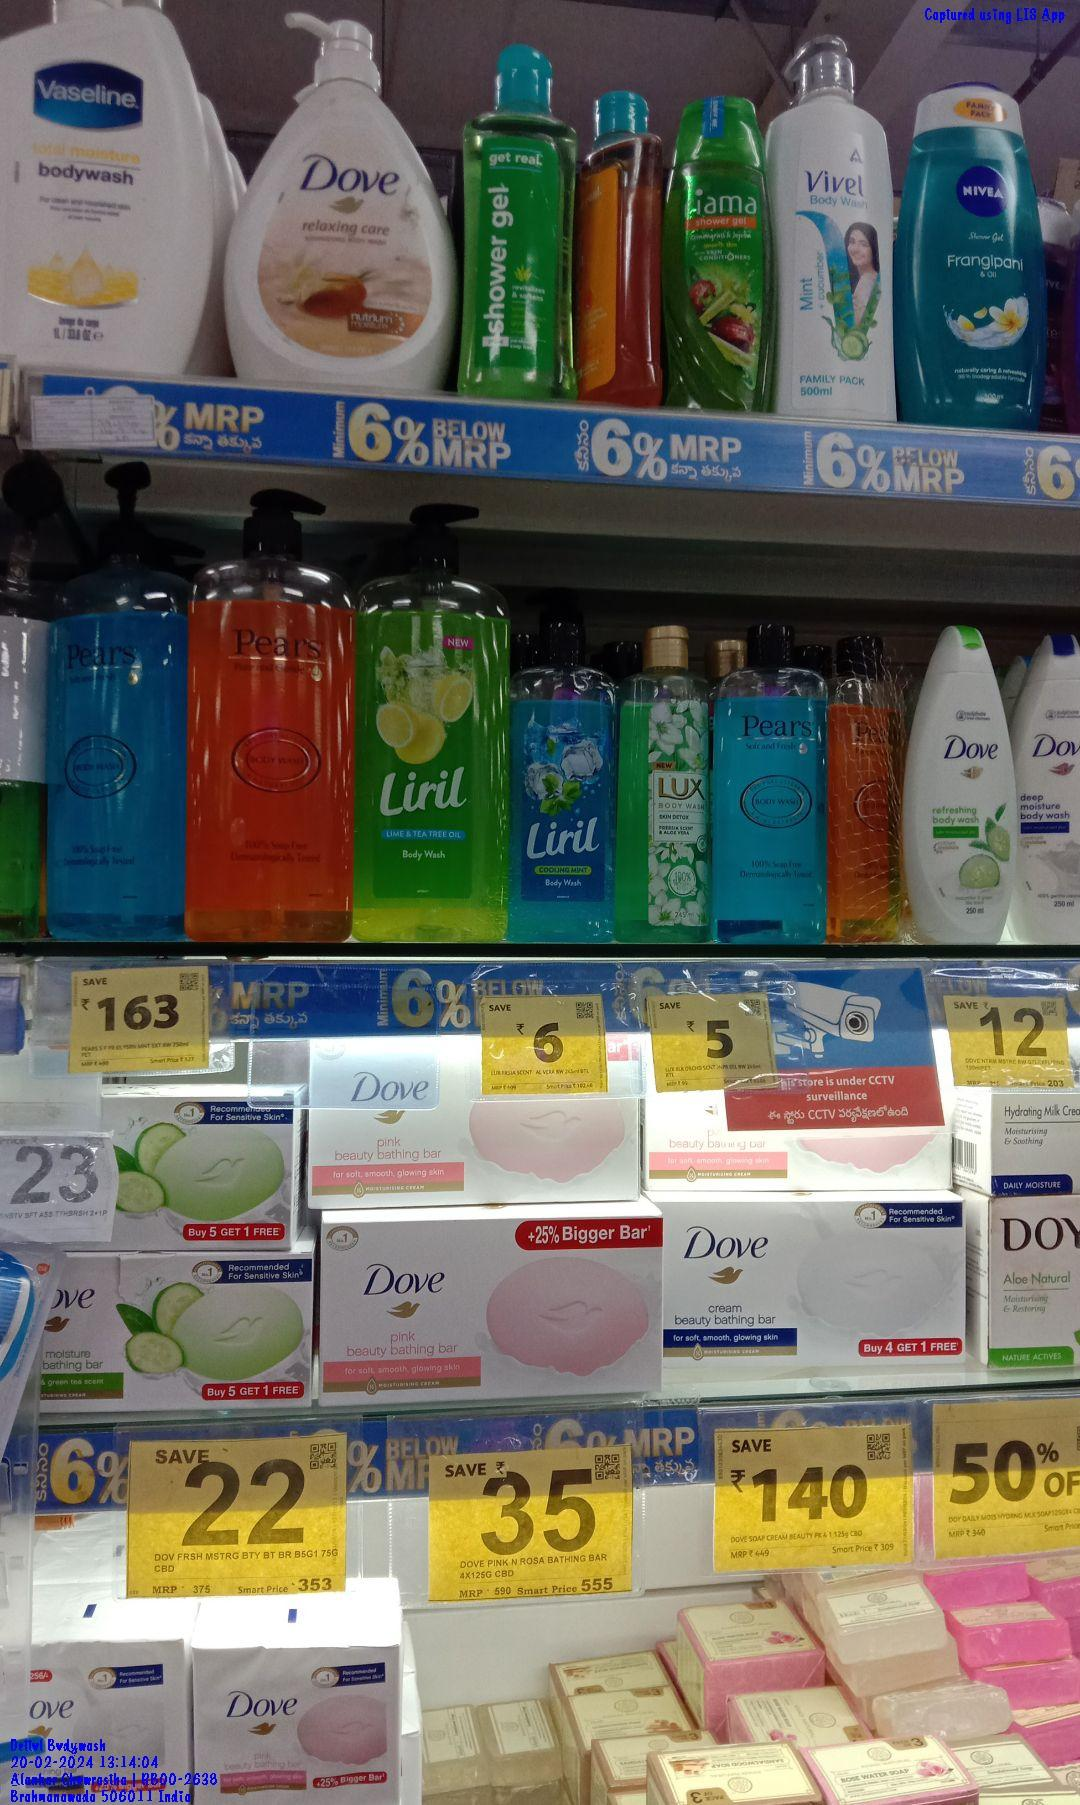Dove_Refreshing_Body_Wash_250ML: (904, 635, 1013, 942)
Fiama_Shower_Gel_Lemongrass_and_Jojoba_250ML: (665, 94, 771, 408)
Liril_Cooling_Mint_Body_Wash_250ML: (508, 606, 608, 944)
Lux_Body_Wash_Skin_Detox_Freesia_Scent_and_Alove_Vera_245ML: (617, 618, 708, 945)
Nivea_Shower_Gel_Frangipani_and_Oil_250ML: (908, 78, 1048, 433)
Pears_Pure_Glycerin_and_Mint_Extracts_Body_Wash_250ML: (715, 622, 828, 938)
